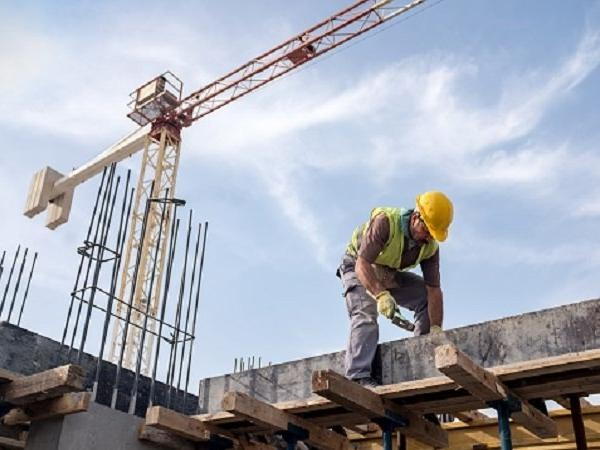yellow: (413, 191, 454, 244)
